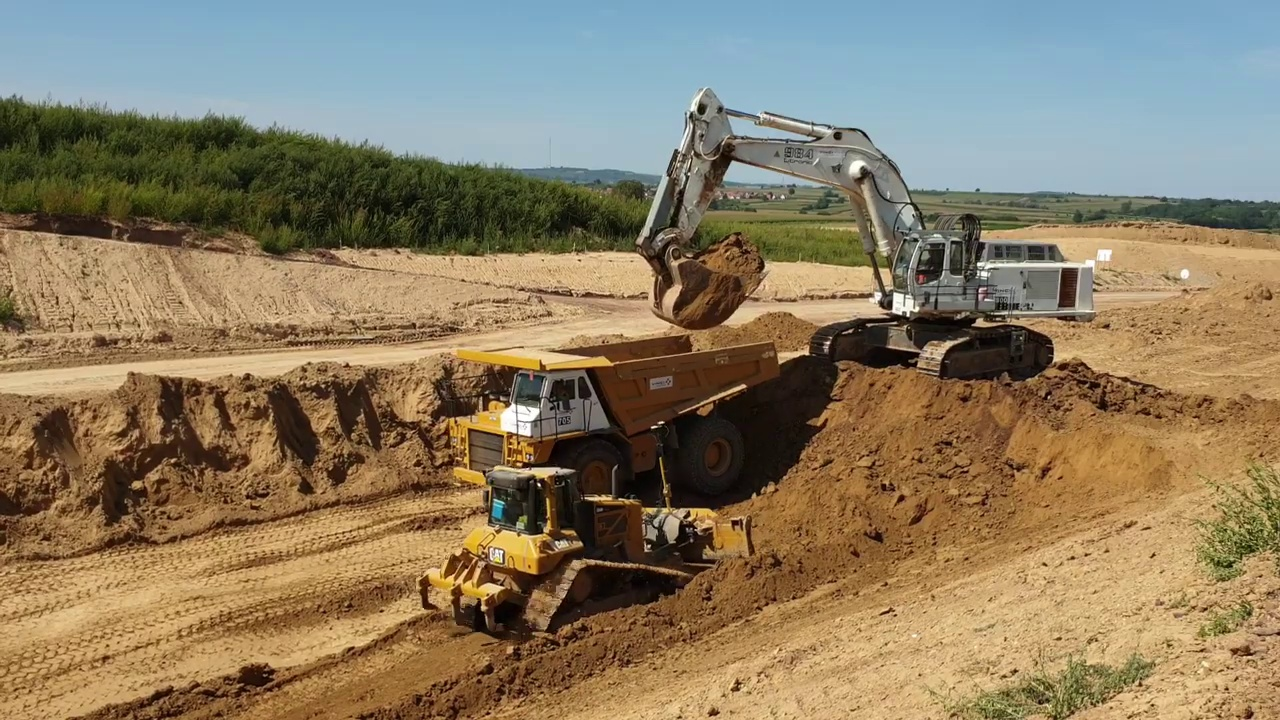bulldozer: (418, 420, 763, 648)
excavator: (630, 79, 1102, 385)
truck: (443, 330, 785, 519)
